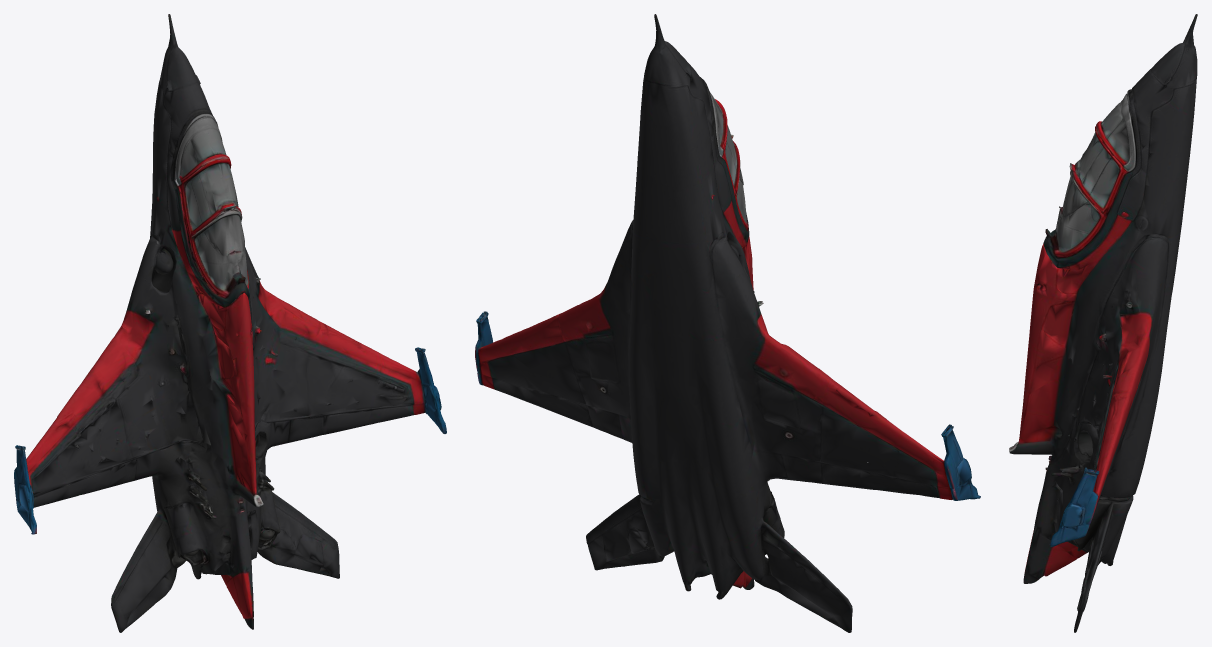
Rendered from raptor.lod1.glb.
The picture shows the model from 3 angles, left to right: view 1: azimuth 30°, elevation 25°; view 2: azimuth 150°, elevation 25°; view 3: azimuth 270°, elevation 25°; orthographic projection. The views are drawn at different scales.
Visible parts, largest first — view 1: tripo_node_10564c94-3cd1-46c9-b720-8f31b40058c8; view 2: tripo_node_10564c94-3cd1-46c9-b720-8f31b40058c8; view 3: tripo_node_10564c94-3cd1-46c9-b720-8f31b40058c8.
Part boxes in pixels (x1,y1,x2,y2): tripo_node_10564c94-3cd1-46c9-b720-8f31b40058c8: (14, 14, 446, 632); tripo_node_10564c94-3cd1-46c9-b720-8f31b40058c8: (475, 14, 980, 632); tripo_node_10564c94-3cd1-46c9-b720-8f31b40058c8: (1009, 14, 1197, 632).
Size of the model in its own units: 0.7674 by 0.9793 by 0.2933.
1 material, 1 textured.
